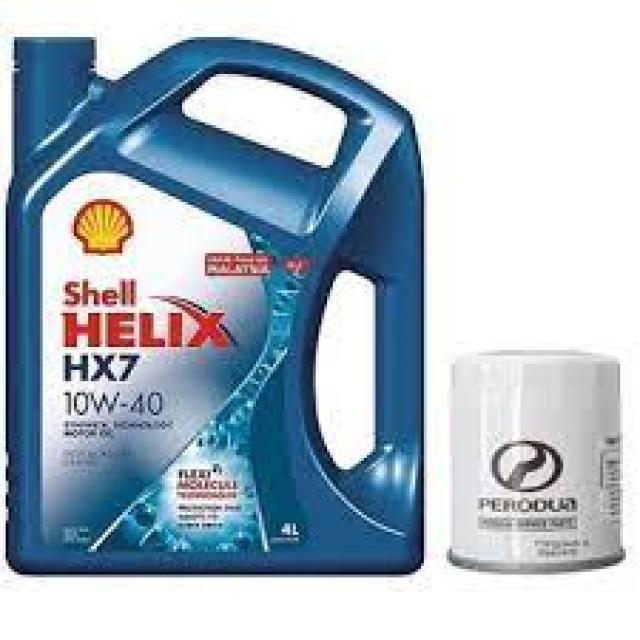motor_oil: (0, 34, 421, 580)
oil_filter: (438, 343, 626, 582)
